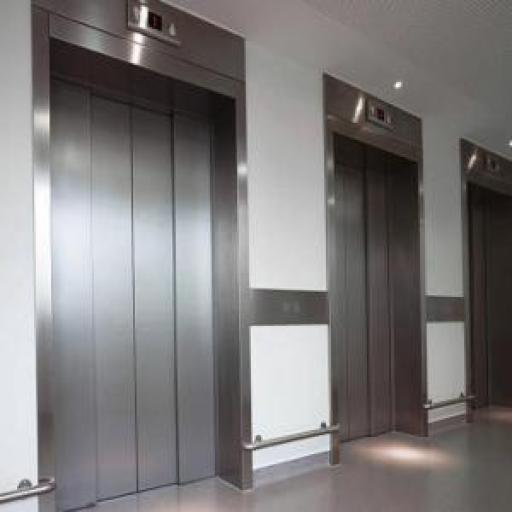crosswalk: (33, 0, 252, 511), (52, 43, 216, 510), (325, 77, 426, 442), (463, 142, 511, 407)
